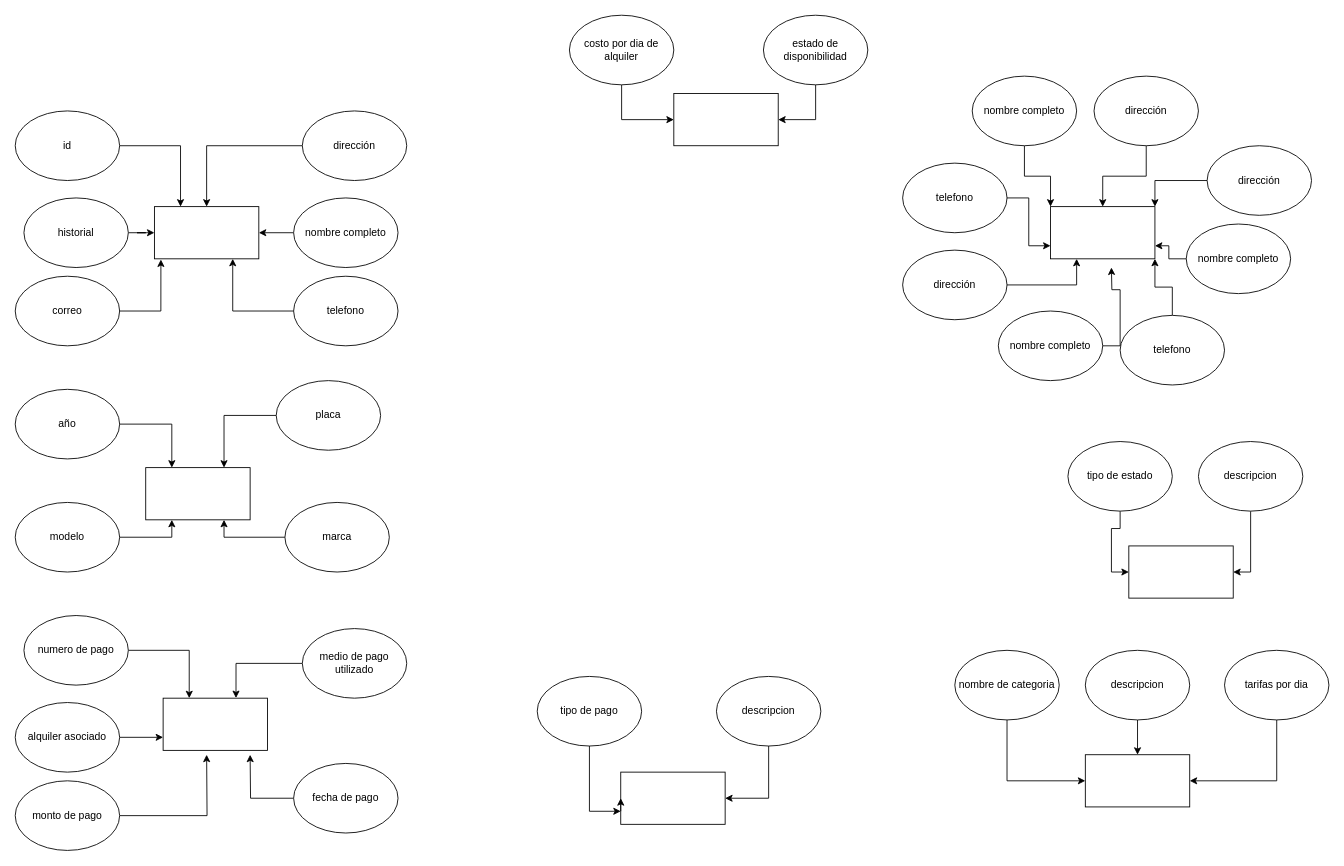
Some shapes in this 1344 by 866 pixel diagram are drawn without their labels. Here are the shapes that lost their labels. From the top down, the centre of each, then its label:
point (725, 119): Categoria
point (206, 232): Cliente
point (1102, 232): Alquiler
point (197, 493): Auto
point (1180, 571): Estado del alquiler
point (215, 723): Pago
point (672, 797): Medio de pago
point (1137, 780): Categoria Auto
